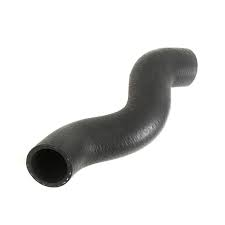radiator_hose: (27, 47, 196, 188)
